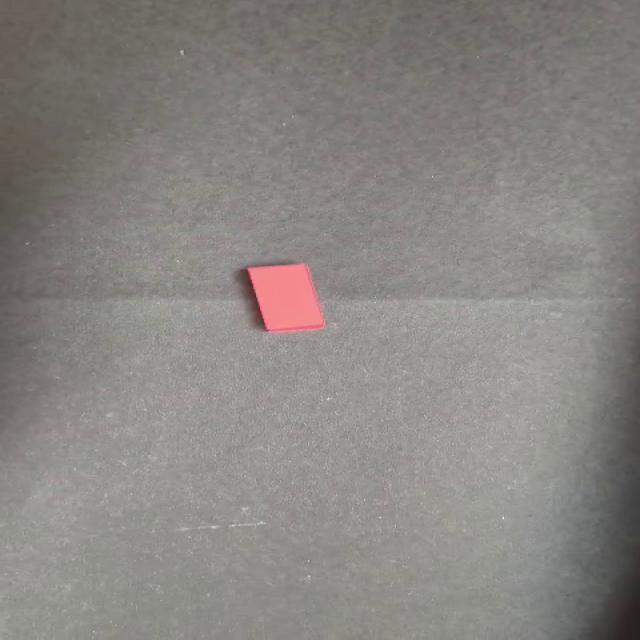red block: (246, 262, 326, 332)
